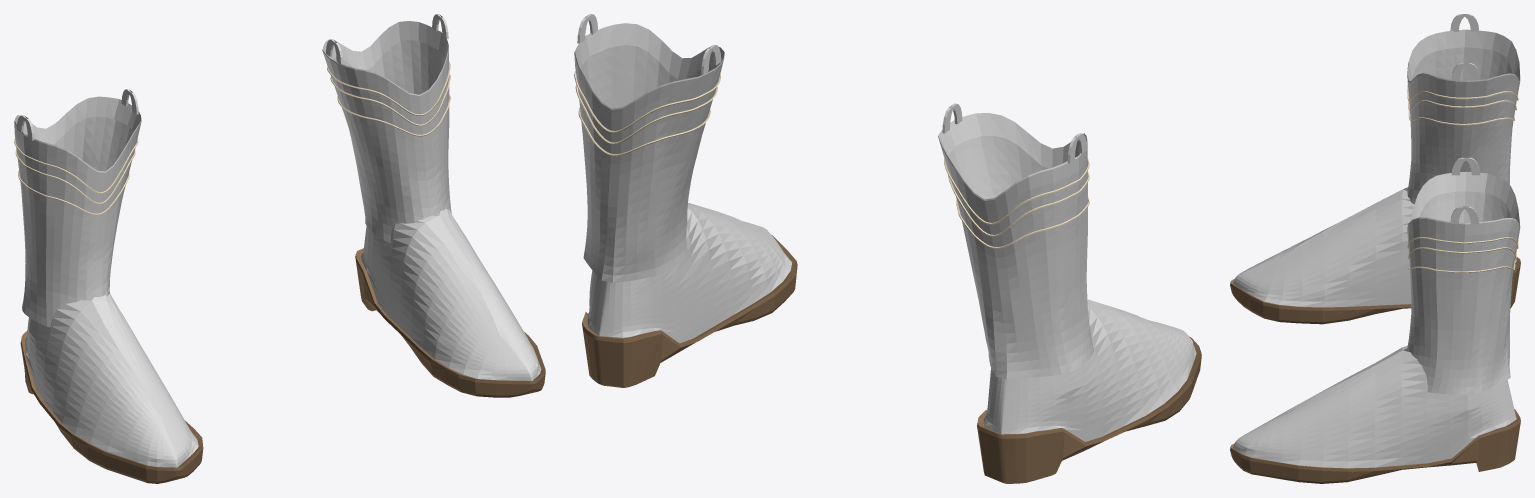
File: ewb_shoe_cowboy.glb
3 views of the same model, side by side, from view 1: azimuth 30°, elevation 25°; view 2: azimuth 150°, elevation 25°; view 3: azimuth 270°, elevation 25° (orthographic). The views are drawn at different scales.
Parts seen in each view (by area): view 1: ewb_shoe_cowboy; view 2: ewb_shoe_cowboy; view 3: ewb_shoe_cowboy.
Boxes of the visible parts, x1,y1,x2,y2 form: ewb_shoe_cowboy: (14,14,545,483); ewb_shoe_cowboy: (574,14,1201,483); ewb_shoe_cowboy: (1230,14,1520,483).
Size of the model in its own units: 0.5537 by 0.3393 by 0.329.
